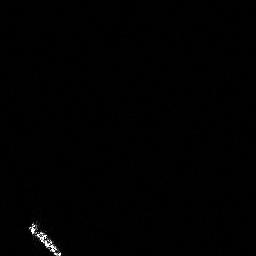ship: (25, 218, 67, 256)
